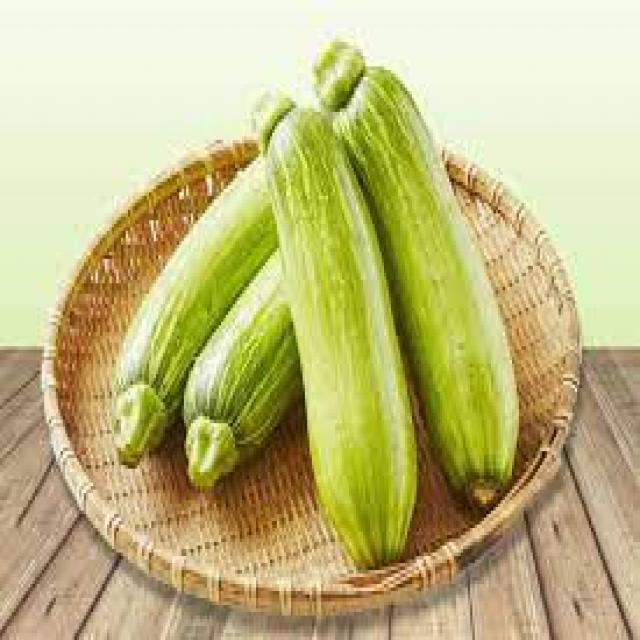Yogurt cup: (317, 42, 521, 505), (249, 89, 419, 568)
